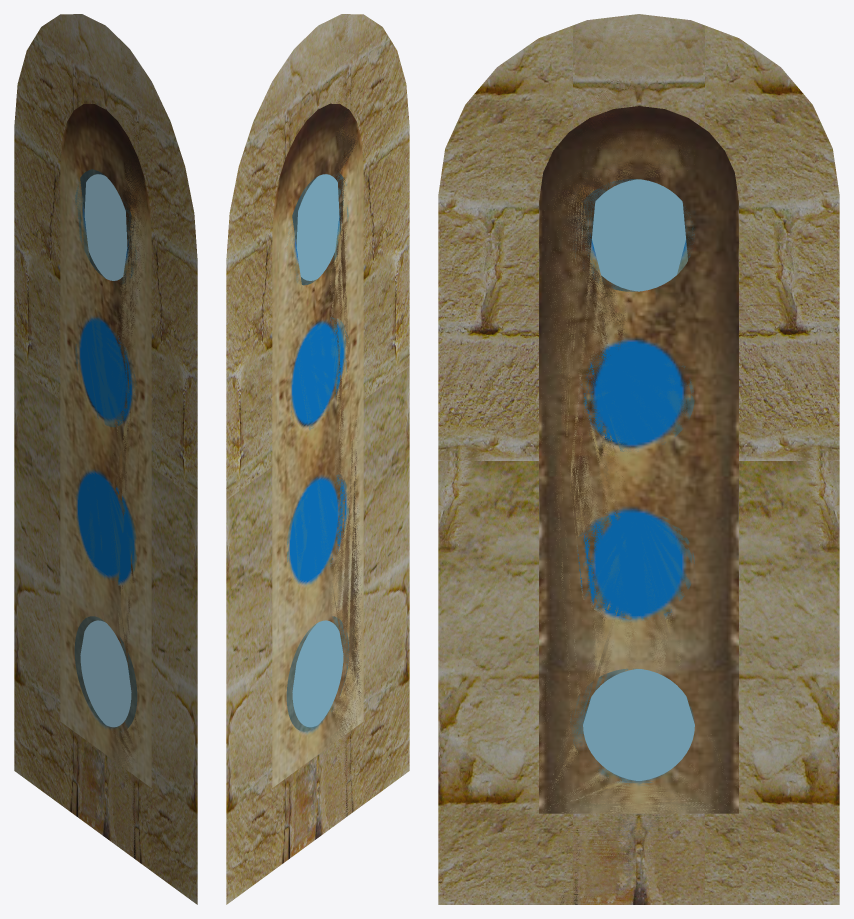
The model's file is WideFraameX4.fbx.
3 views of the same model, side by side, from view 1: azimuth 30°, elevation 25°; view 2: azimuth 150°, elevation 25°; view 3: azimuth 270°, elevation 25° (orthographic). The views are drawn at different scales.
Parts seen in each view (by area): view 1: WideFrame.x4; view 2: WideFrame.x4; view 3: WideFrame.x4.
Part boxes in pixels (box(x1,y1,x2,y2)): WideFrame.x4: box(14, 14, 197, 904); WideFrame.x4: box(226, 14, 409, 904); WideFrame.x4: box(438, 14, 839, 904).
Bounding box in the file's own units: 2.3e-05 × 144 × 59.01.
